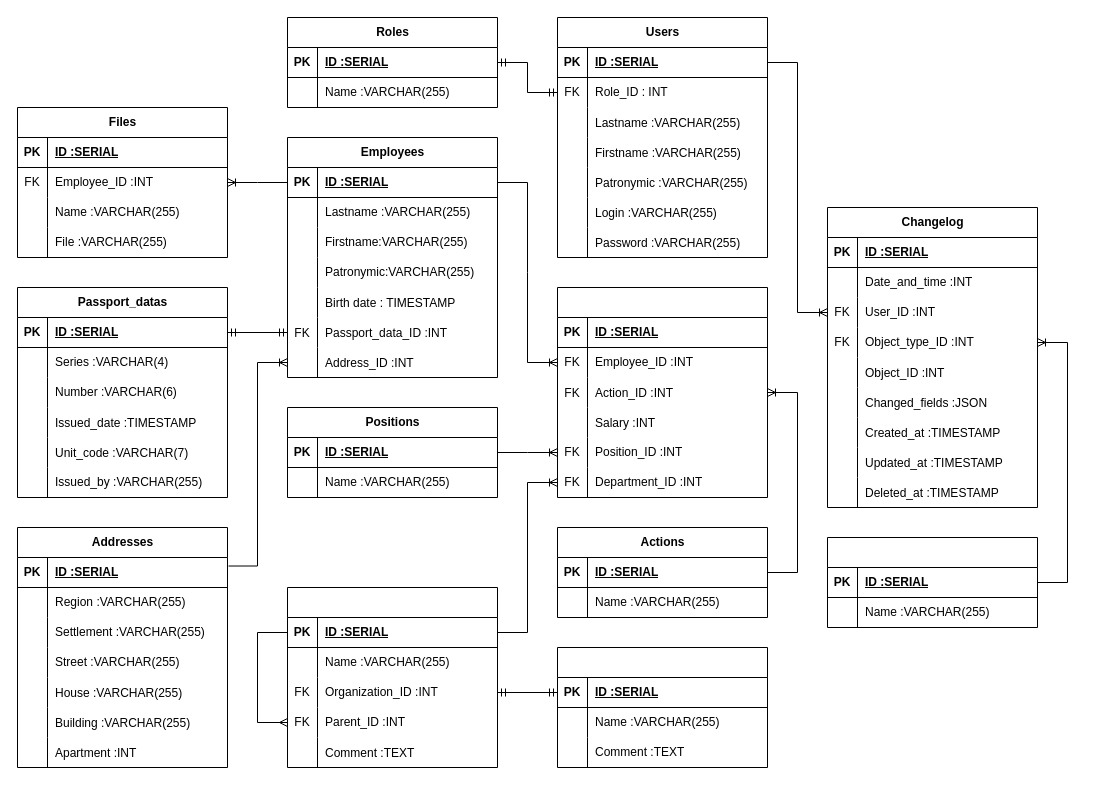
The diagram is 1093 pixels wide and 785 high, and some of its shapes have lost their labels. Here are the shapes that lost their labels. From the top down, the box of each, then its label:
(556, 286, 768, 498): HR_operations
(826, 536, 1038, 628): Object_types
(286, 586, 498, 768): Departments
(556, 646, 768, 768): Organizations
